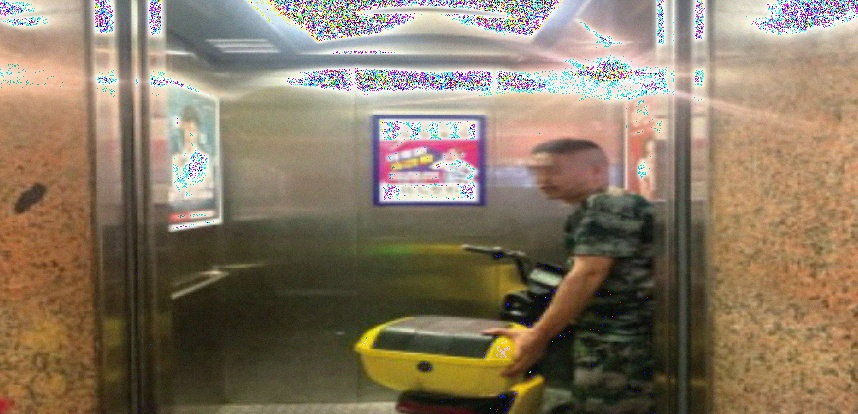ebike: (354, 243, 576, 410)
person: (501, 142, 660, 408)
